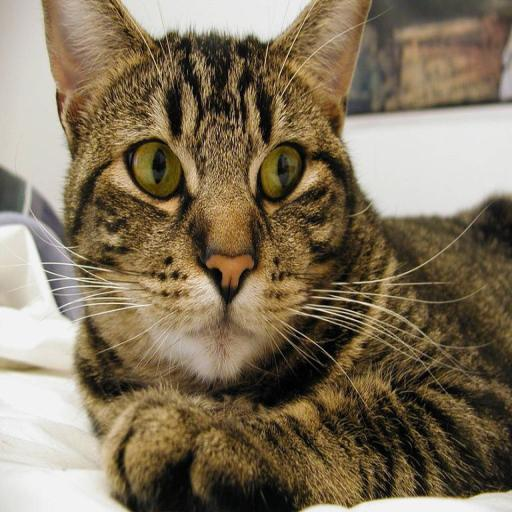cat: (41, 0, 512, 512)
